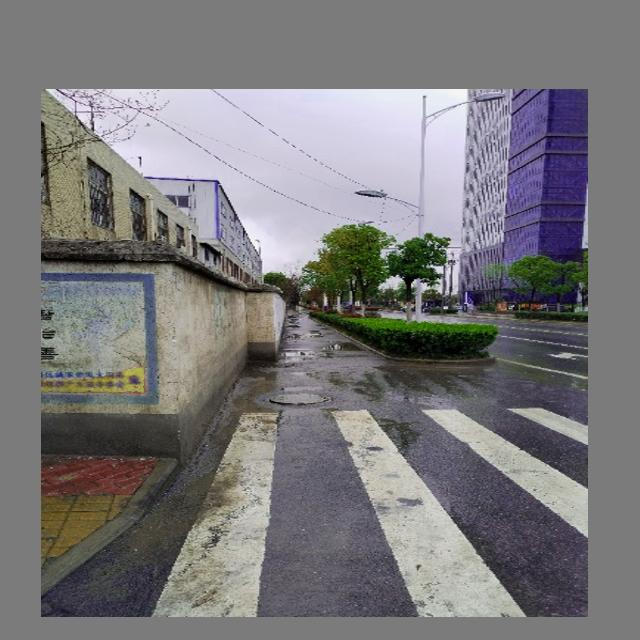good: (242, 366, 360, 428)
